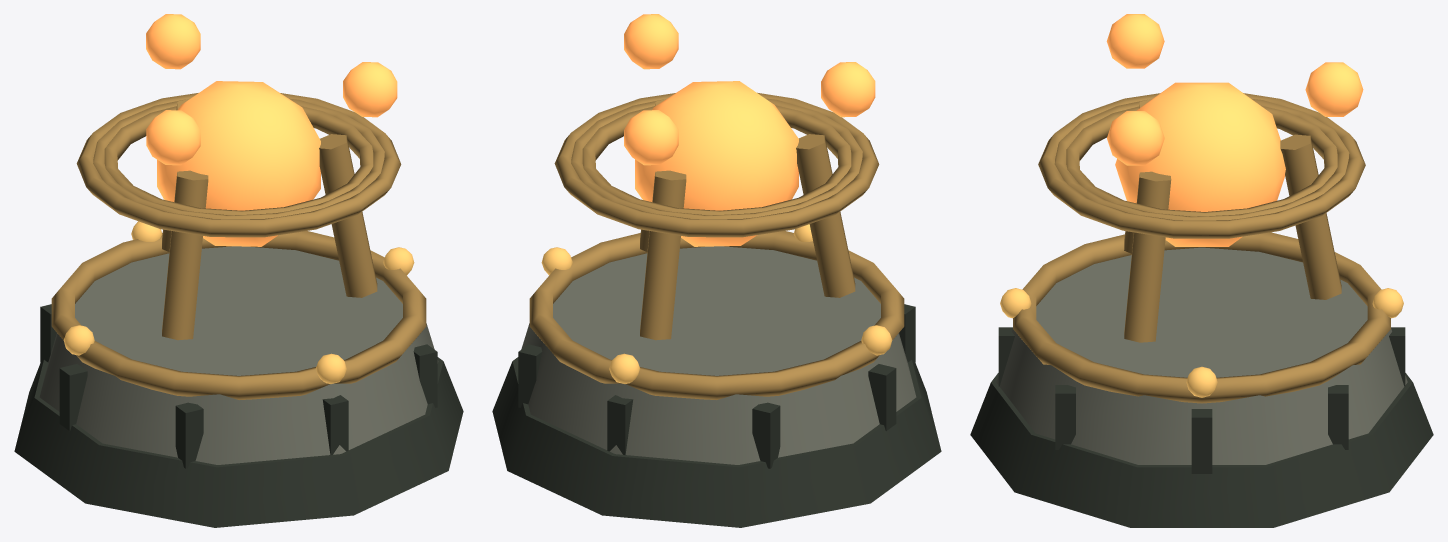
Rendered from tower_meteor_meteorForge_ultimate.glb.
3 renders of one model, left to right at view 1: azimuth 30°, elevation 25°; view 2: azimuth 150°, elevation 25°; view 3: azimuth 270°, elevation 25°, orthographic.
Parts seen in each view (by area): view 1: stone_1, foot_0, meteor_18, rim_2, armillary_21, armillary_19, claw_17, claw_16, armillary_20, falling_star_24, falling_star_22, falling_star_23 (+8 smaller); view 2: stone_1, foot_0, meteor_18, rim_2, armillary_21, armillary_19, claw_15, claw_17, armillary_20, falling_star_22, falling_star_23, falling_star_24 (+8 smaller); view 3: stone_1, foot_0, meteor_18, rim_2, armillary_21, armillary_19, claw_16, claw_15, armillary_20, falling_star_22, falling_star_23, falling_star_24 (+8 smaller).
Part boxes in pixels (x1=…): stone_1: x1=39, y1=246, x2=438, y2=464; foot_0: x1=14, y1=357, x2=463, y2=527; meteor_18: x1=157, y1=81, x2=320, y2=246; rim_2: x1=51, y1=231, x2=426, y2=399; armillary_21: x1=76, y1=93, x2=401, y2=237; armillary_19: x1=104, y1=106, x2=373, y2=215; claw_17: x1=162, y1=170, x2=208, y2=340; claw_16: x1=319, y1=134, x2=377, y2=297; armillary_20: x1=93, y1=98, x2=384, y2=219; falling_star_24: x1=146, y1=110, x2=200, y2=165; falling_star_22: x1=146, y1=14, x2=200, y2=69; falling_star_23: x1=343, y1=62, x2=397, y2=117; stone_1: x1=517, y1=246, x2=916, y2=464; foot_0: x1=492, y1=357, x2=941, y2=527; meteor_18: x1=635, y1=81, x2=798, y2=246; rim_2: x1=529, y1=231, x2=904, y2=399; armillary_21: x1=554, y1=92, x2=879, y2=237; armillary_19: x1=582, y1=105, x2=851, y2=215; claw_15: x1=640, y1=170, x2=686, y2=340; claw_17: x1=796, y1=134, x2=855, y2=297; armillary_20: x1=571, y1=98, x2=862, y2=219; falling_star_22: x1=624, y1=110, x2=678, y2=165; falling_star_23: x1=624, y1=14, x2=678, y2=69; falling_star_24: x1=821, y1=62, x2=875, y2=117; stone_1: x1=996, y1=247, x2=1407, y2=464; foot_0: x1=970, y1=373, x2=1433, y2=527; meteor_18: x1=1115, y1=82, x2=1285, y2=246; rim_2: x1=1013, y1=232, x2=1390, y2=403; armillary_21: x1=1038, y1=93, x2=1365, y2=238; armillary_19: x1=1066, y1=105, x2=1337, y2=216; claw_16: x1=1124, y1=171, x2=1171, y2=342; claw_15: x1=1280, y1=134, x2=1341, y2=299; armillary_20: x1=1054, y1=98, x2=1349, y2=220; falling_star_22: x1=1305, y1=62, x2=1363, y2=116; falling_star_23: x1=1107, y1=111, x2=1164, y2=165; falling_star_24: x1=1106, y1=14, x2=1164, y2=68.
Size of the model in its own units: 0.5326 by 0.495 by 0.56.
